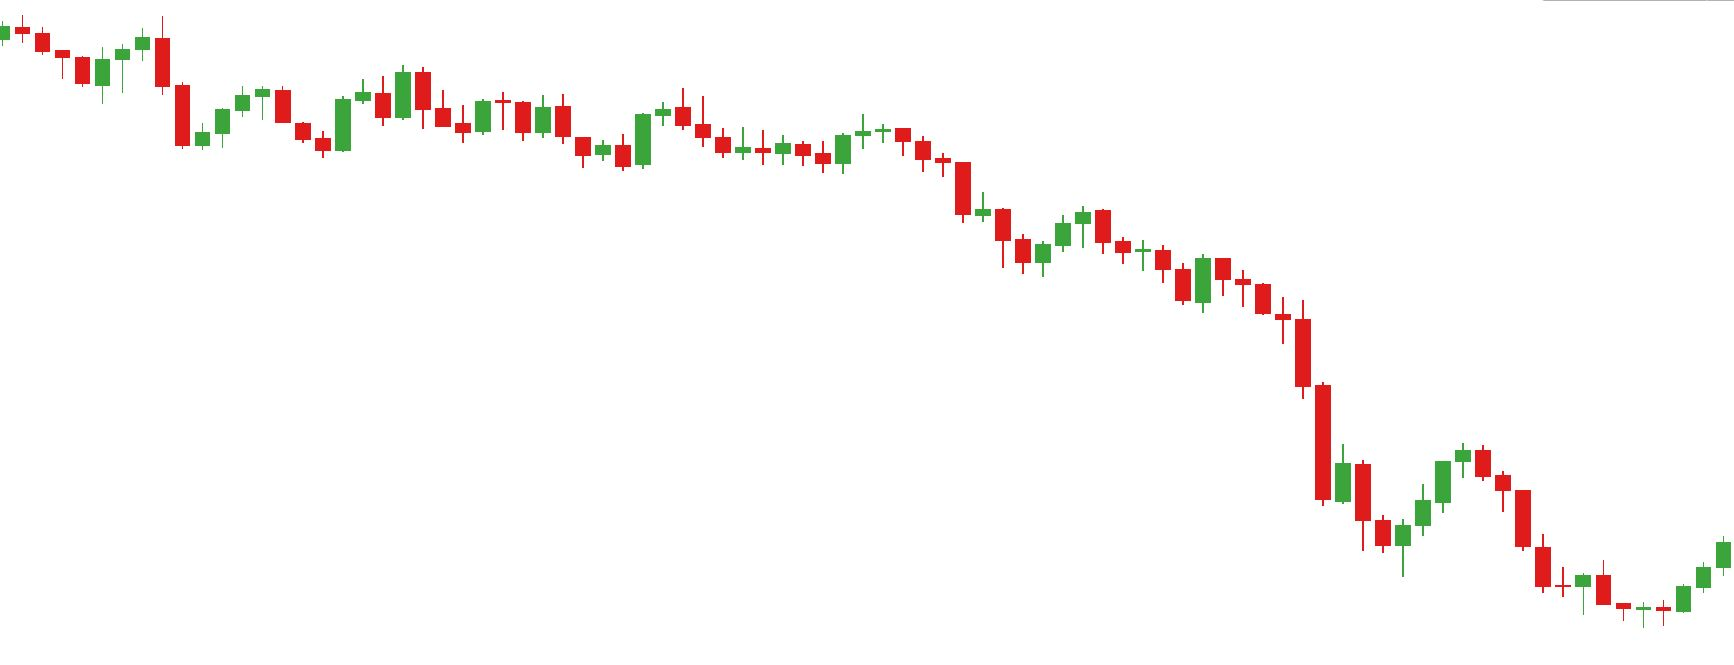sell: (232, 67, 431, 132)
